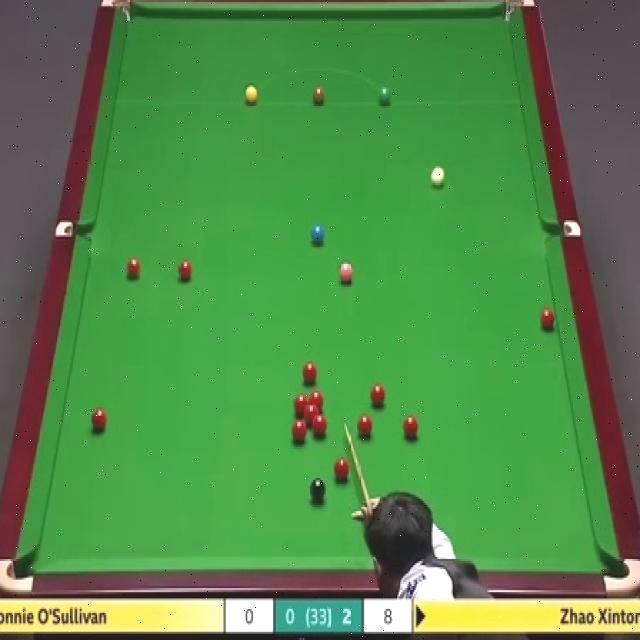black-ball: (310, 476, 327, 504)
blue-ball: (310, 223, 325, 247)
brown-ball: (312, 85, 326, 105)
green-ball: (377, 84, 391, 106)
pink-ball: (336, 262, 356, 291)
red-ball: (539, 306, 558, 336), (332, 455, 352, 483), (356, 414, 373, 440), (125, 256, 143, 280), (90, 407, 107, 432), (369, 383, 386, 408), (403, 416, 419, 441), (177, 260, 194, 283), (308, 390, 325, 411), (303, 362, 318, 385), (293, 397, 309, 418), (312, 416, 327, 438), (292, 420, 306, 442), (304, 405, 318, 423)
white-ball: (428, 162, 446, 188)
yellow-ball: (245, 86, 258, 106)
